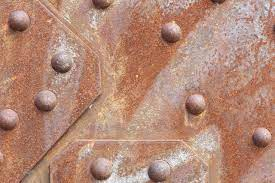rust: (109, 5, 188, 120), (2, 2, 54, 171), (197, 82, 275, 181), (257, 14, 275, 40)
